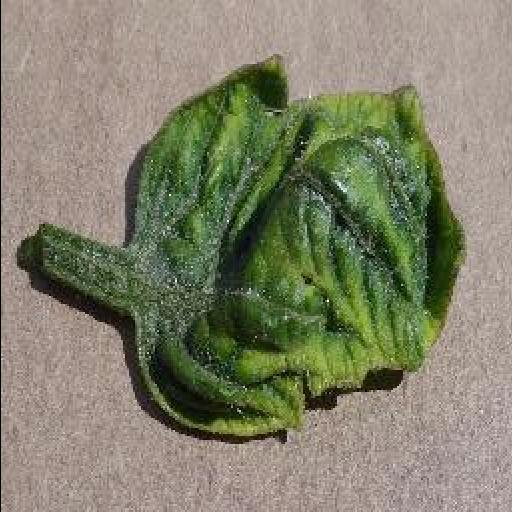disease_tomato: (122, 52, 470, 442)
